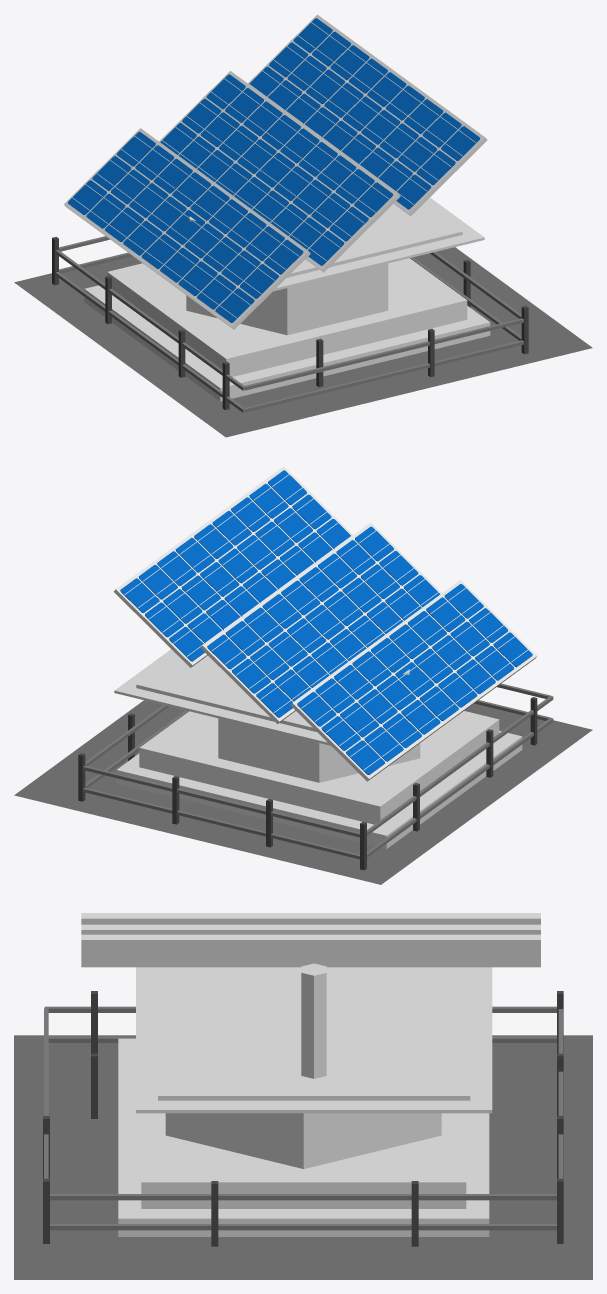
The model's file is Building_1by1_Sustainable.fbx.
3 views of the same model, one above another, from view 1: azimuth 30°, elevation 25°; view 2: azimuth 150°, elevation 25°; view 3: azimuth 270°, elevation 25° (orthographic). The views are drawn at different scales.
Visible parts, largest first — view 1: pCube180, pCylinder31, TE5, pCube195, pCube196; view 2: pCube180, pCylinder31, TE5, pCube195, pCube196; view 3: pCube180, TE5, pCylinder31, pCube196, pCube195, pCube192, pCube191.
Part boxes in pixels (x1,y1,x2,y2): pCube180: (64, 14, 487, 329); pCylinder31: (84, 258, 490, 401); TE5: (14, 247, 592, 437); pCube195: (59, 236, 523, 412); pCube196: (55, 250, 521, 412); pCube180: (113, 466, 537, 781); pCylinder31: (116, 711, 522, 849); TE5: (14, 700, 592, 884); pCube195: (83, 683, 550, 859); pCube196: (85, 696, 553, 857); pCube180: (81, 913, 540, 1113); TE5: (14, 1035, 592, 1279); pCylinder31: (118, 1038, 489, 1236); pCube196: (44, 1006, 556, 1230); pCube195: (44, 1008, 563, 1178); pCube192: (411, 1181, 418, 1246); pCube191: (211, 1181, 218, 1246).
Size of the model in its own units: 1 by 0.5547 by 1.
